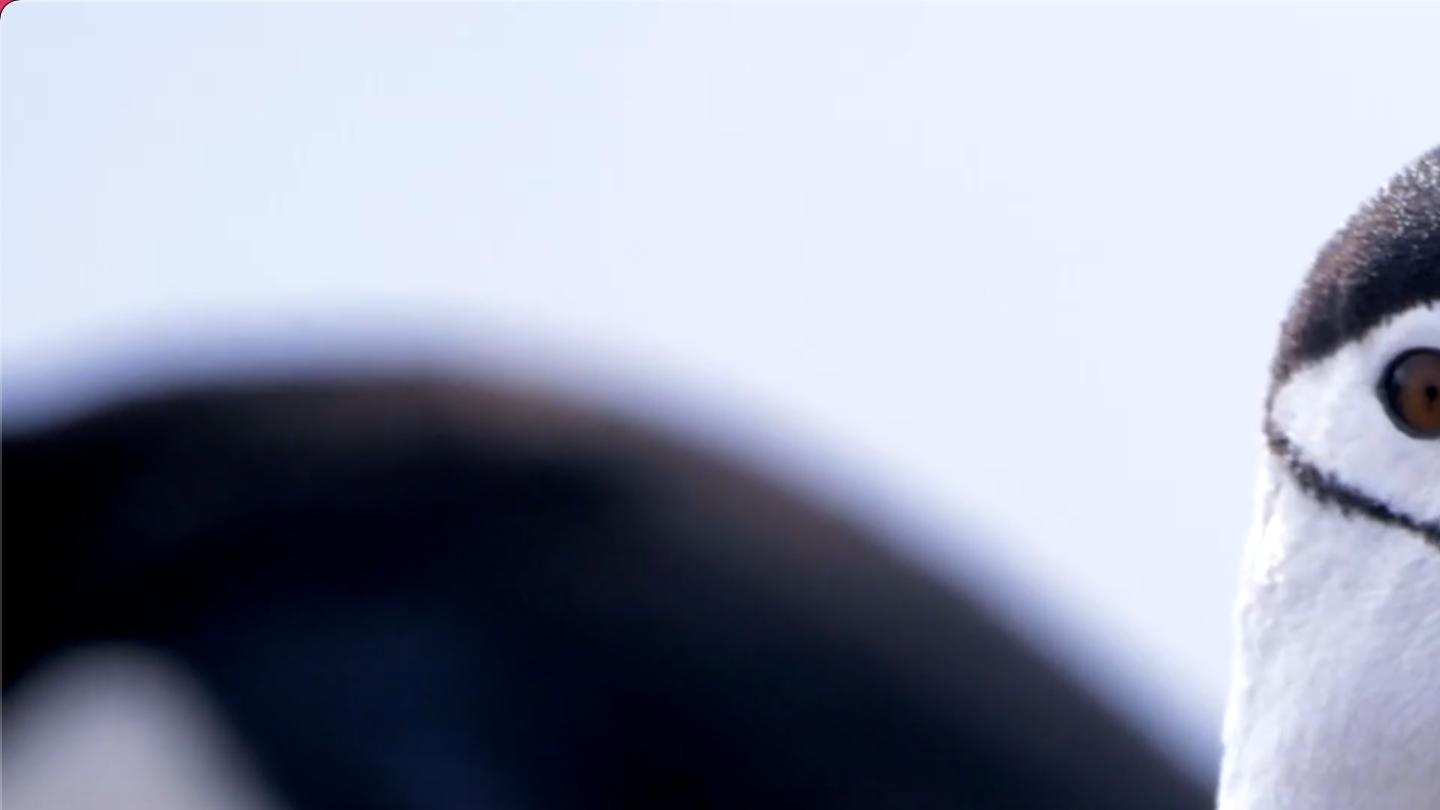Chinstrap Penguin: (1126, 45, 1440, 810)
